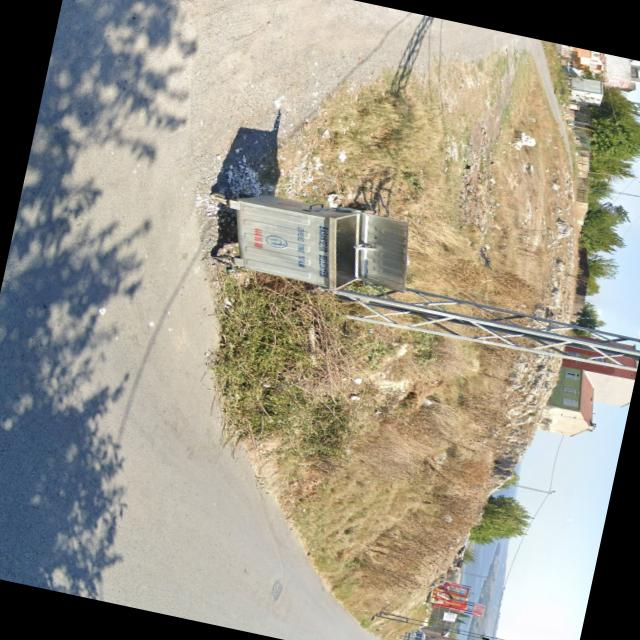Utility Pole Information Plate: (481, 637, 486, 640)
